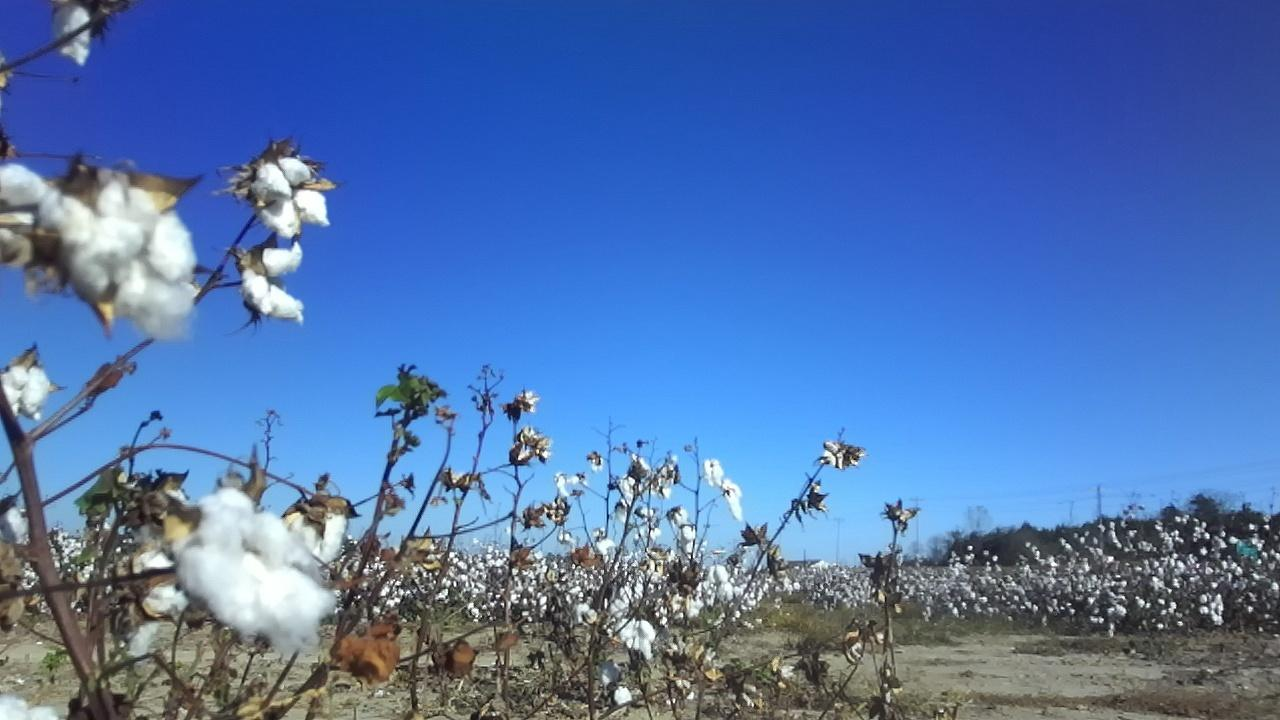cotton_ready: (184, 510, 331, 646), (35, 170, 155, 295), (113, 210, 194, 339), (252, 157, 329, 237), (125, 554, 180, 658), (244, 239, 303, 325), (0, 163, 47, 269), (125, 482, 189, 551), (280, 512, 347, 558), (0, 364, 52, 419), (51, 1, 92, 69), (0, 697, 64, 720)
